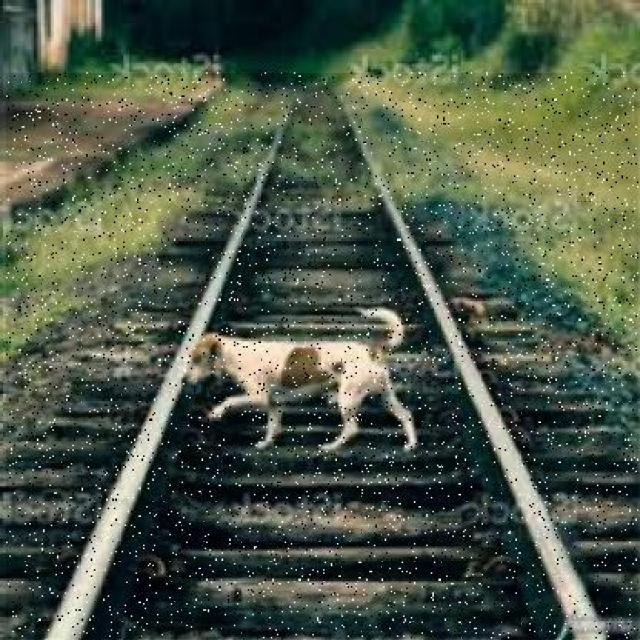rail: (7, 74, 639, 640)
